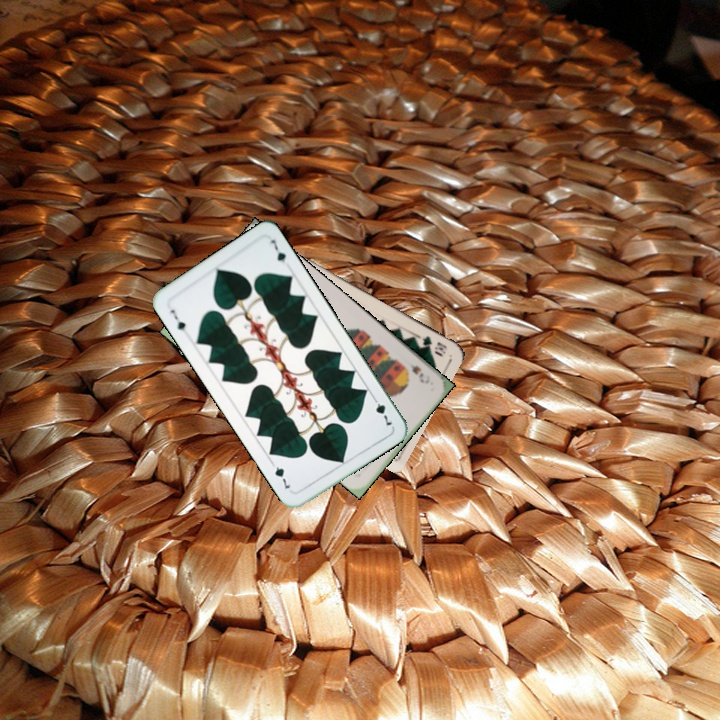G10: (418, 332, 449, 358)
G7: (368, 392, 395, 428), (166, 305, 188, 334)
S9: (405, 360, 433, 386)
